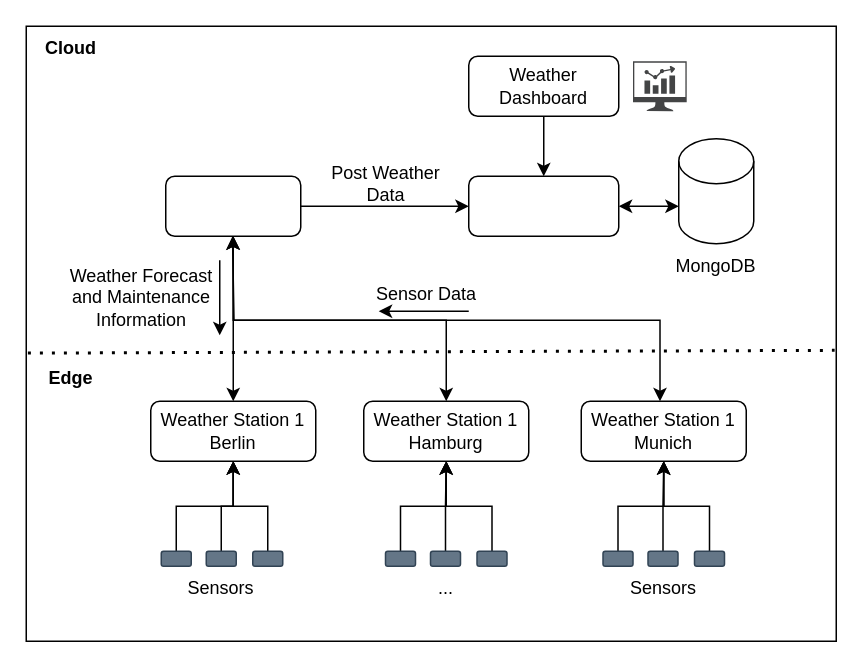
This 864x668 diagram has some shape labels left out. The shapes that lost their labels are listed below. From the top down, each one's centre as x and y in pixels, then its label:
At point (232, 205): "Cloud ZMQ Server".
At point (543, 205): "Flask Backend".
